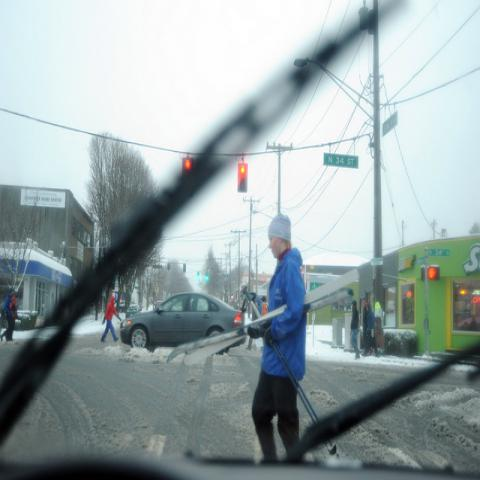car: (121, 292, 246, 354), (126, 305, 141, 319)
